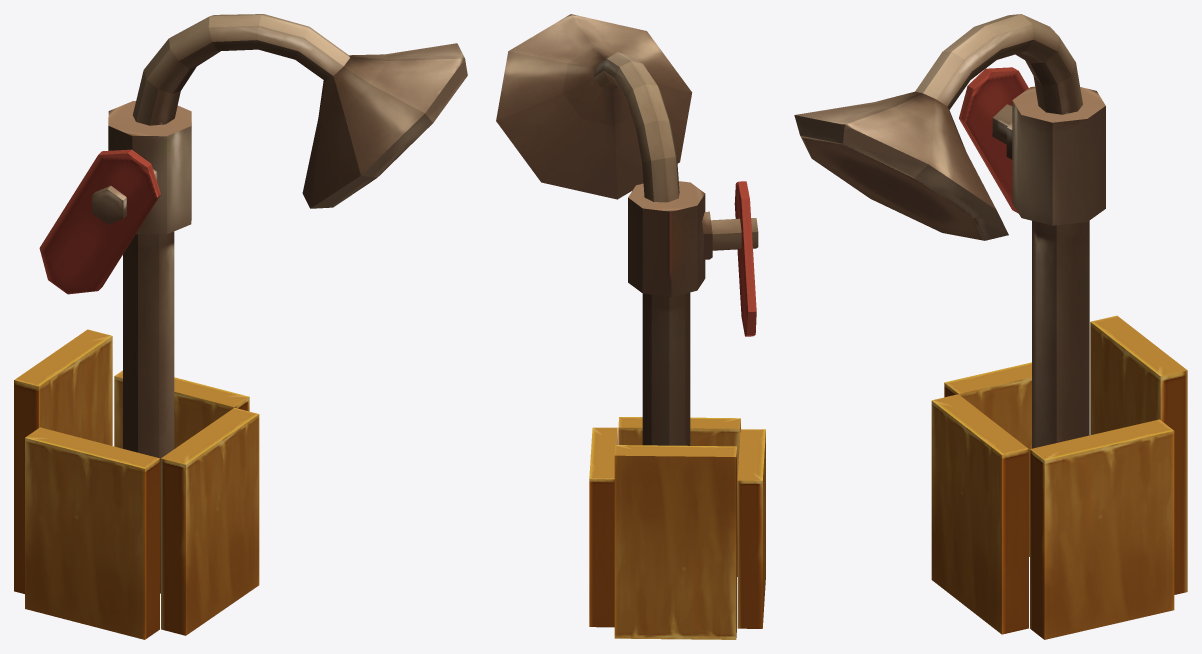
File: Ceshichangji_XiaoPenZi_01.FBX
3 renders of one model, left to right at view 1: azimuth 30°, elevation 25°; view 2: azimuth 150°, elevation 25°; view 3: azimuth 270°, elevation 25°, orthographic. The views are drawn at different scales.
Parts seen in each view (by area): view 1: Object017; view 2: Object017; view 3: Object017.
Part boxes in pixels (<box>): Object017: <box>14,14,467,639</box>; Object017: <box>496,14,765,639</box>; Object017: <box>794,14,1187,639</box>.
Size of the model in its own units: 192 by 292 by 172.
